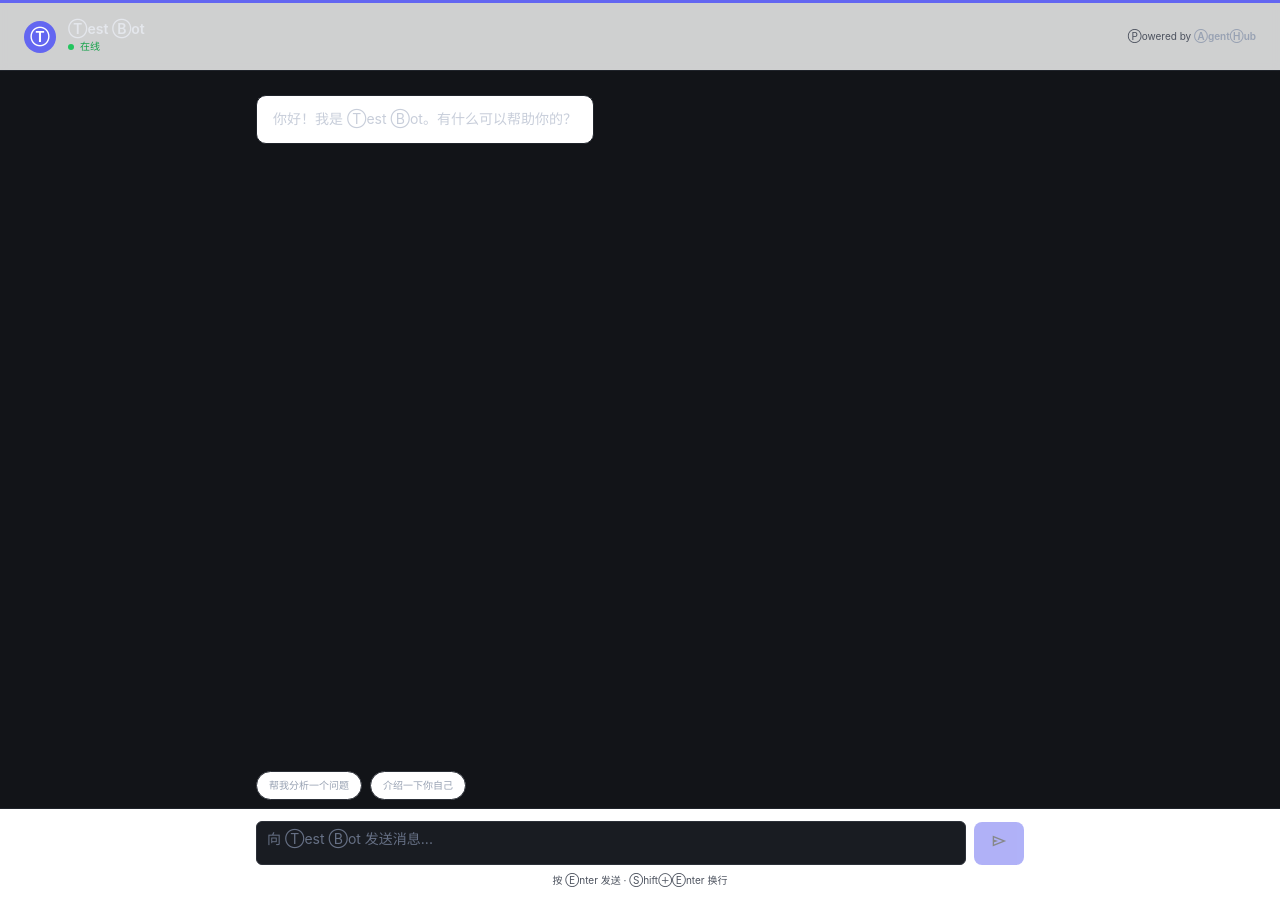
Scenario: PublishedBotPage › clicking a suggestion fills the input
Click the button "帮我分析一个问题" at x=309, y=786, box [256,771,362,800]
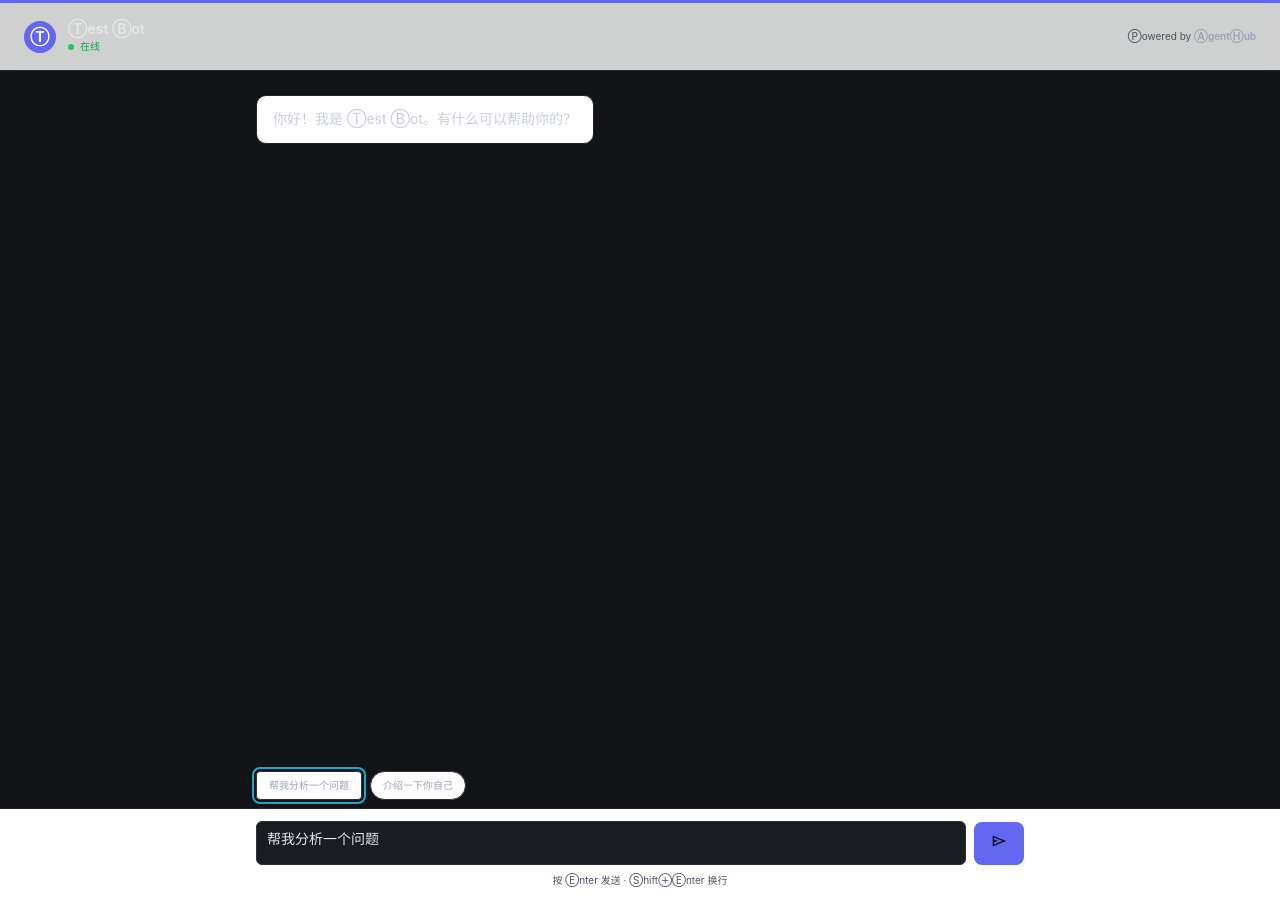
Check: the text box holds "帮我分析一个问题", box [256,821,966,865]
